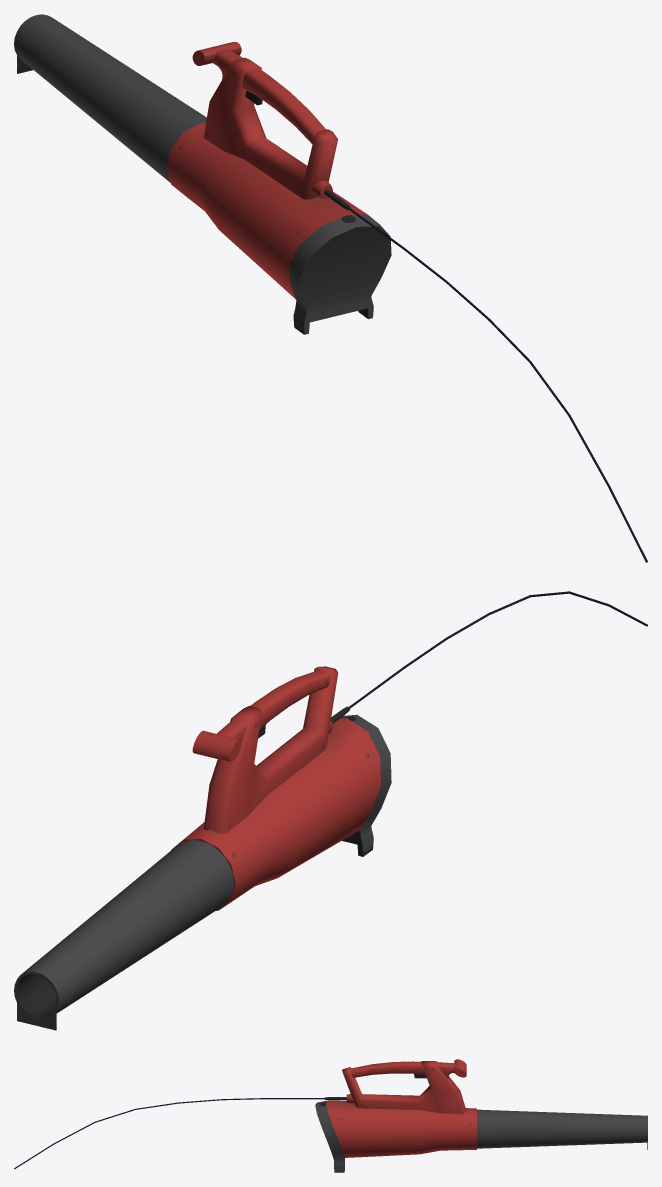
Rendered from 吹风机.FBX.
3 views of the same model, one above another, from view 1: azimuth 30°, elevation 25°; view 2: azimuth 150°, elevation 25°; view 3: azimuth 270°, elevation 25° (orthographic). The views are drawn at different scales.
Parts seen in each view (by area): view 1: 吹风机; view 2: 吹风机; view 3: 吹风机.
Boxes of the visible parts, x1,y1,x2,y2 form: 吹风机: (14, 14, 647, 562); 吹风机: (14, 591, 647, 1030); 吹风机: (14, 1059, 647, 1172).
Bounding box in the file's own units: 140 × 298 × 1598.
